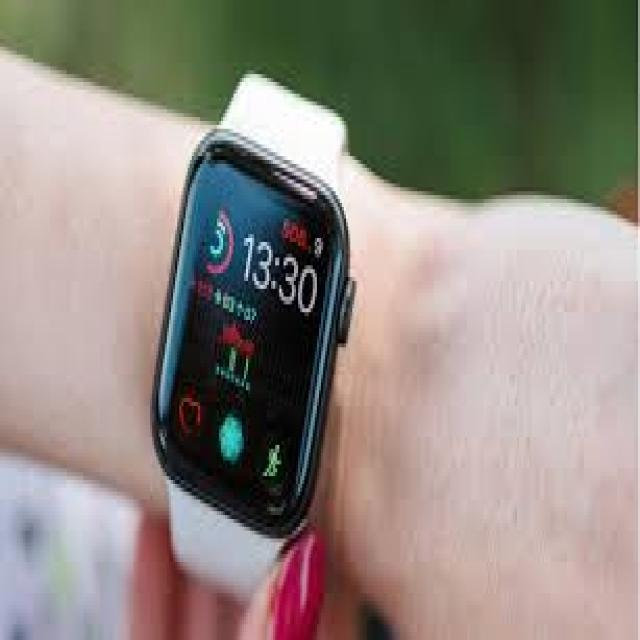objects: (154, 74, 355, 608)
